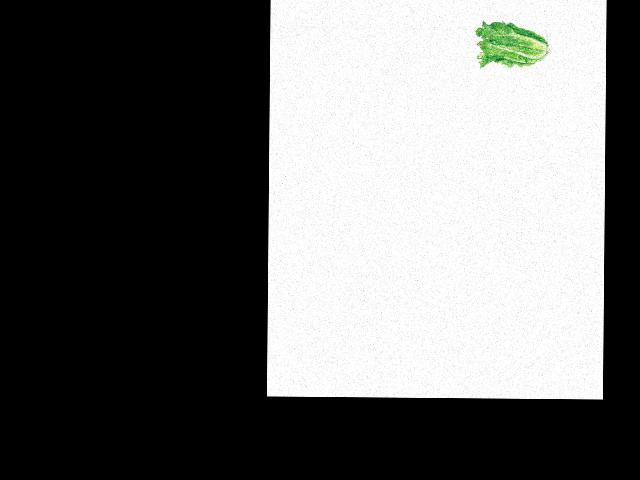lettuce: (474, 20, 547, 70)
